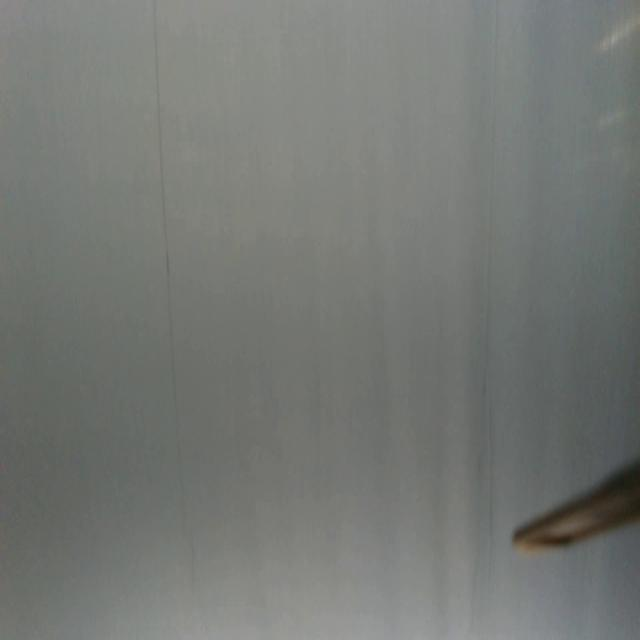crease: (152, 0, 186, 538), (480, 0, 500, 579)
